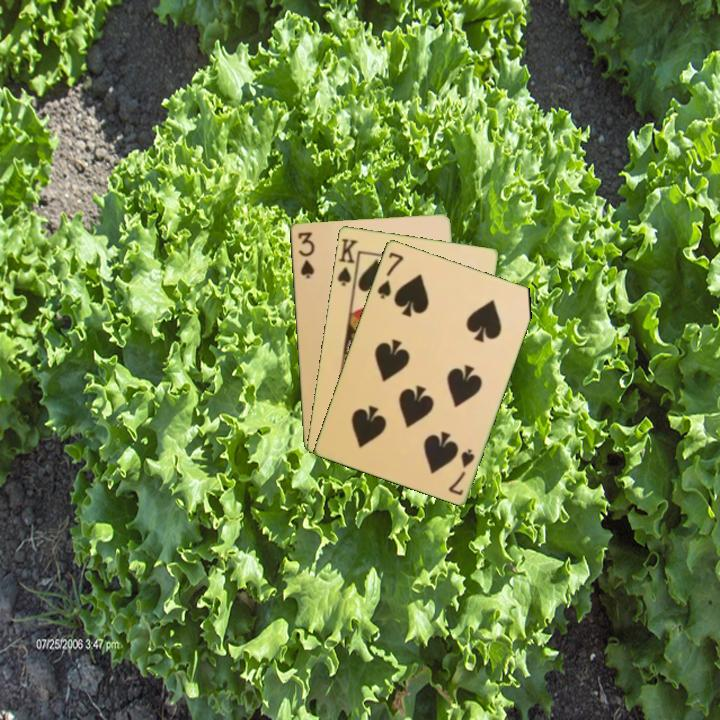3s: (294, 228, 317, 281)
7s: (373, 248, 406, 302), (445, 445, 477, 498)
Ks: (334, 235, 360, 289)
